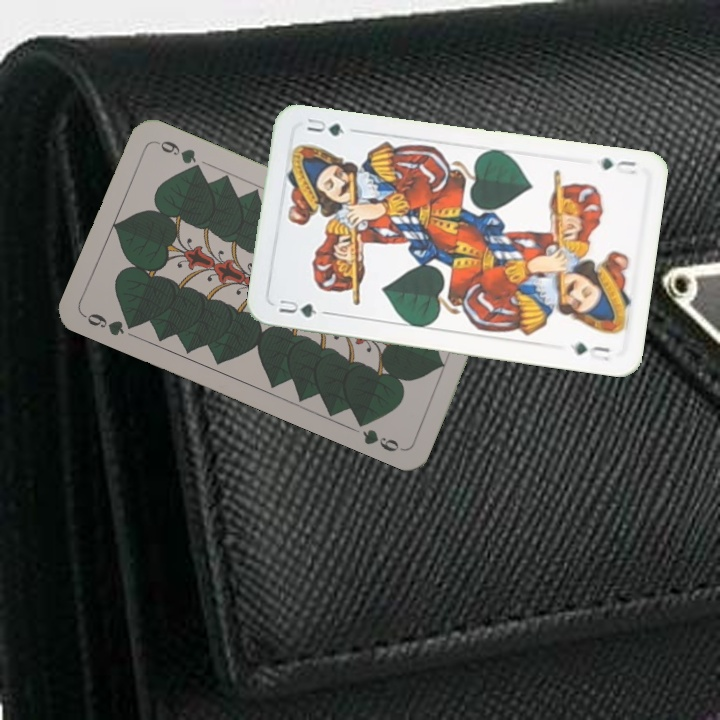G9: (80, 309, 141, 339)
GU: (275, 295, 320, 320), (597, 153, 639, 178)
